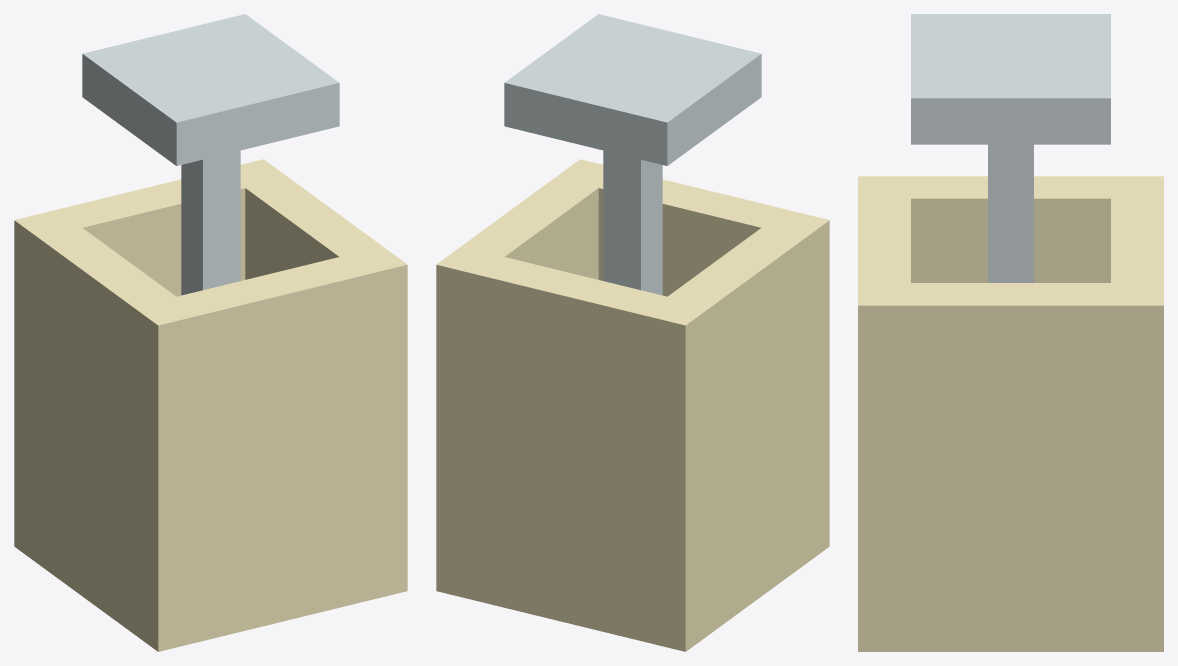
File: lampSquareCeiling.optimized.glb
3 views of the same model, side by side, from view 1: azimuth 30°, elevation 25°; view 2: azimuth 150°, elevation 25°; view 3: azimuth 270°, elevation 25° (orthographic). The views are drawn at different scales.
Parts seen in each view (by area): view 1: lampSquareCeiling(Clone); view 2: lampSquareCeiling(Clone); view 3: lampSquareCeiling(Clone).
Boxes of the visible parts, x1,y1,x2,y2 form: lampSquareCeiling(Clone): (14,14,407,651); lampSquareCeiling(Clone): (436,14,829,651); lampSquareCeiling(Clone): (858,14,1163,651).
Size of the model in its own units: 0.12 by 0.23 by 0.12.
